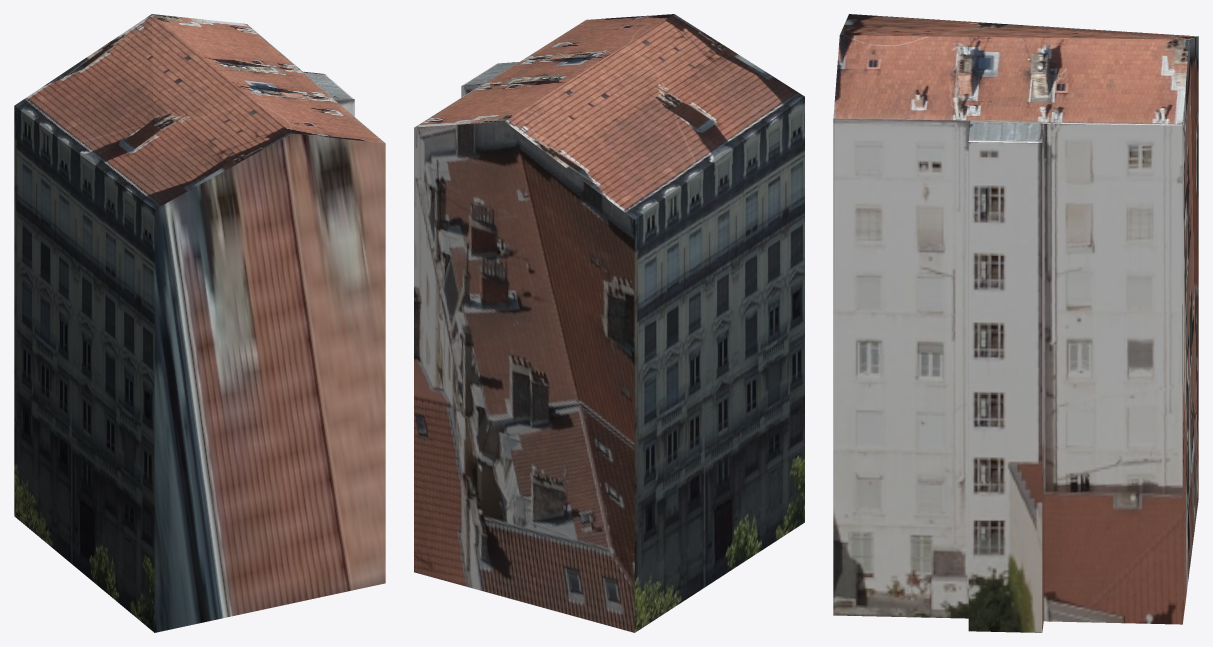
The picture shows the model from 3 angles, left to right: view 1: azimuth 30°, elevation 25°; view 2: azimuth 150°, elevation 25°; view 3: azimuth 270°, elevation 25°; orthographic projection. The views are drawn at different scales.
Visible parts, largest first — view 1: Z_UP; view 2: Z_UP; view 3: Z_UP.
Part boxes in pixels (x1,y1,x2,y2): Z_UP: (14,14,385,632); Z_UP: (414,14,804,632); Z_UP: (833,14,1198,632).
Size of the model in its own units: 16.39 by 28.93 by 17.94.
2 materials, 1 textured.
